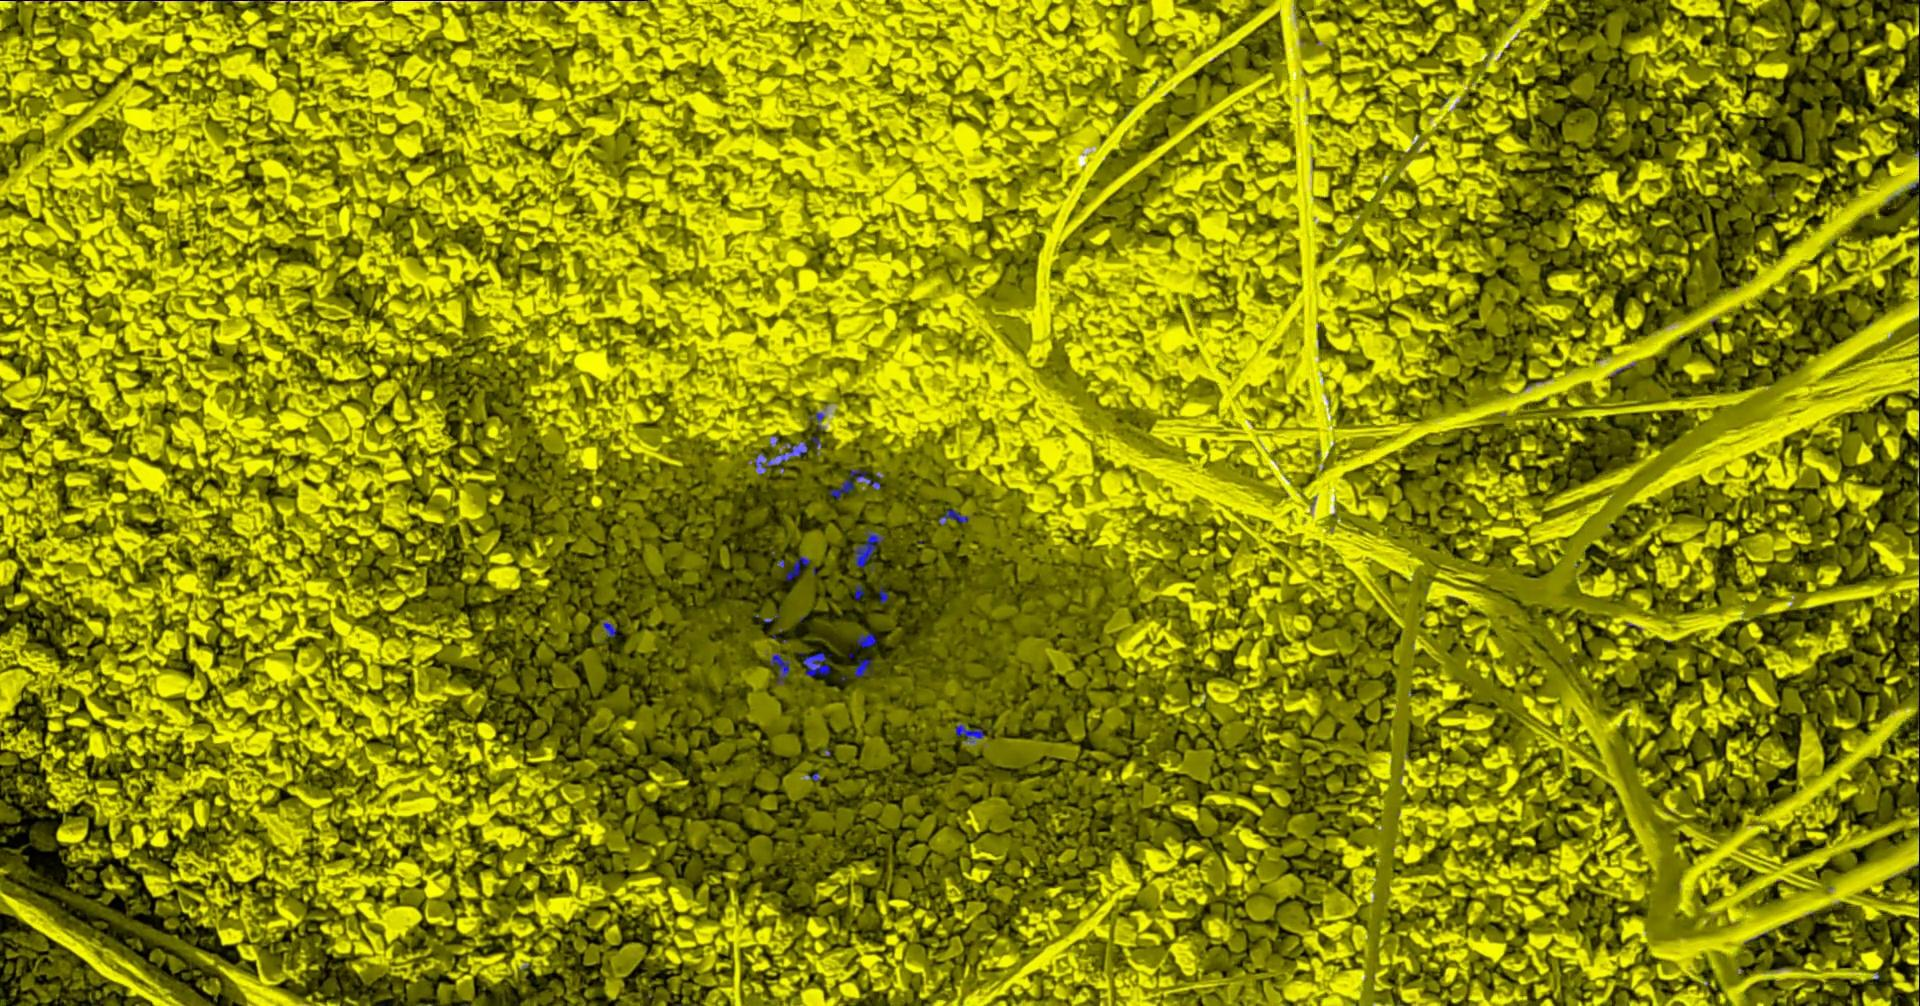ant: (828, 467, 880, 499), (853, 530, 883, 567), (797, 652, 830, 676), (768, 652, 790, 683), (777, 439, 808, 461), (785, 555, 809, 580), (954, 724, 983, 742), (938, 508, 968, 525), (754, 452, 778, 470), (853, 658, 872, 677), (855, 633, 876, 648), (809, 412, 823, 431), (877, 583, 888, 603), (602, 622, 616, 636), (855, 584, 863, 600)
